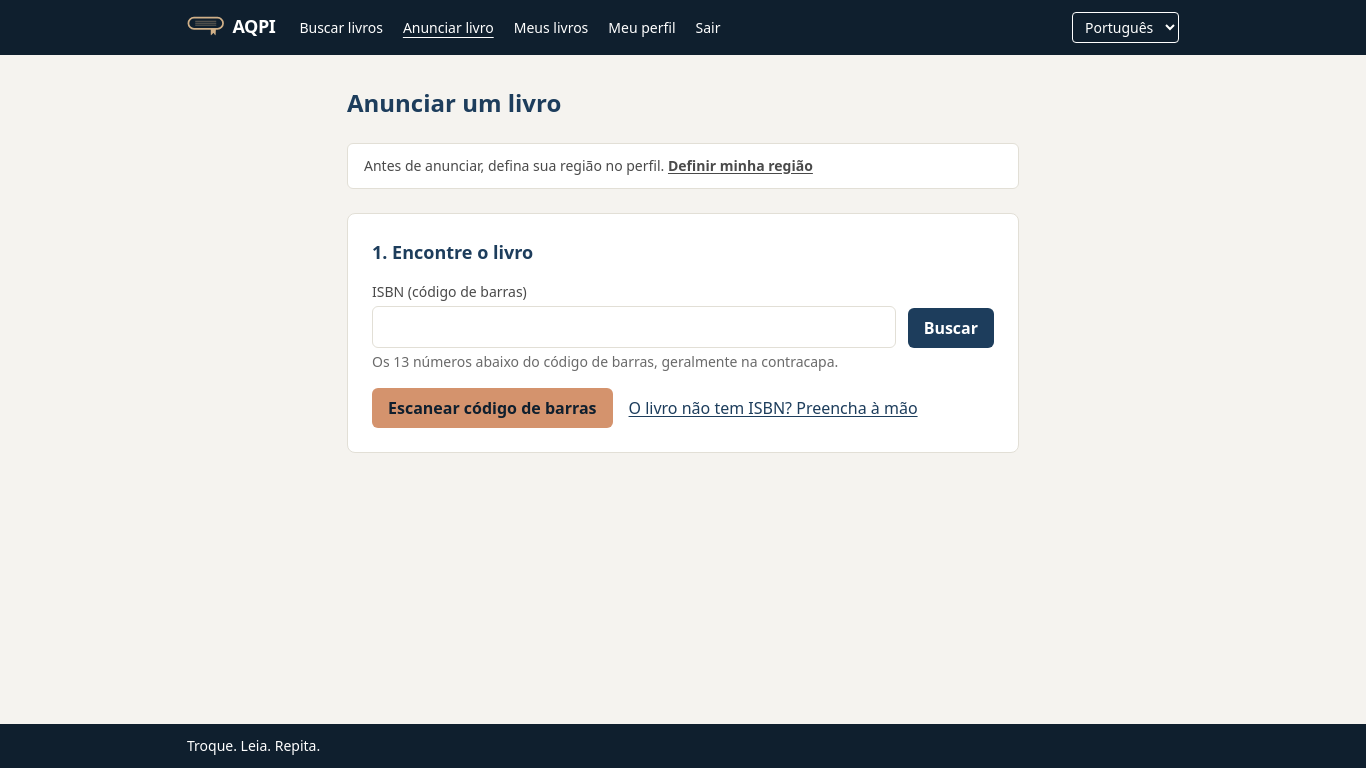
create listing (scan → metadata → publish) › asks for a home area before publishing
Expected: the text "Antes de anunciar, defina sua região no perfil." is shown, [364,156,664,175]
Type "9788535914849" into the field labelled "ISBN (código de barras)" at (634, 327), box [372,306,896,348]
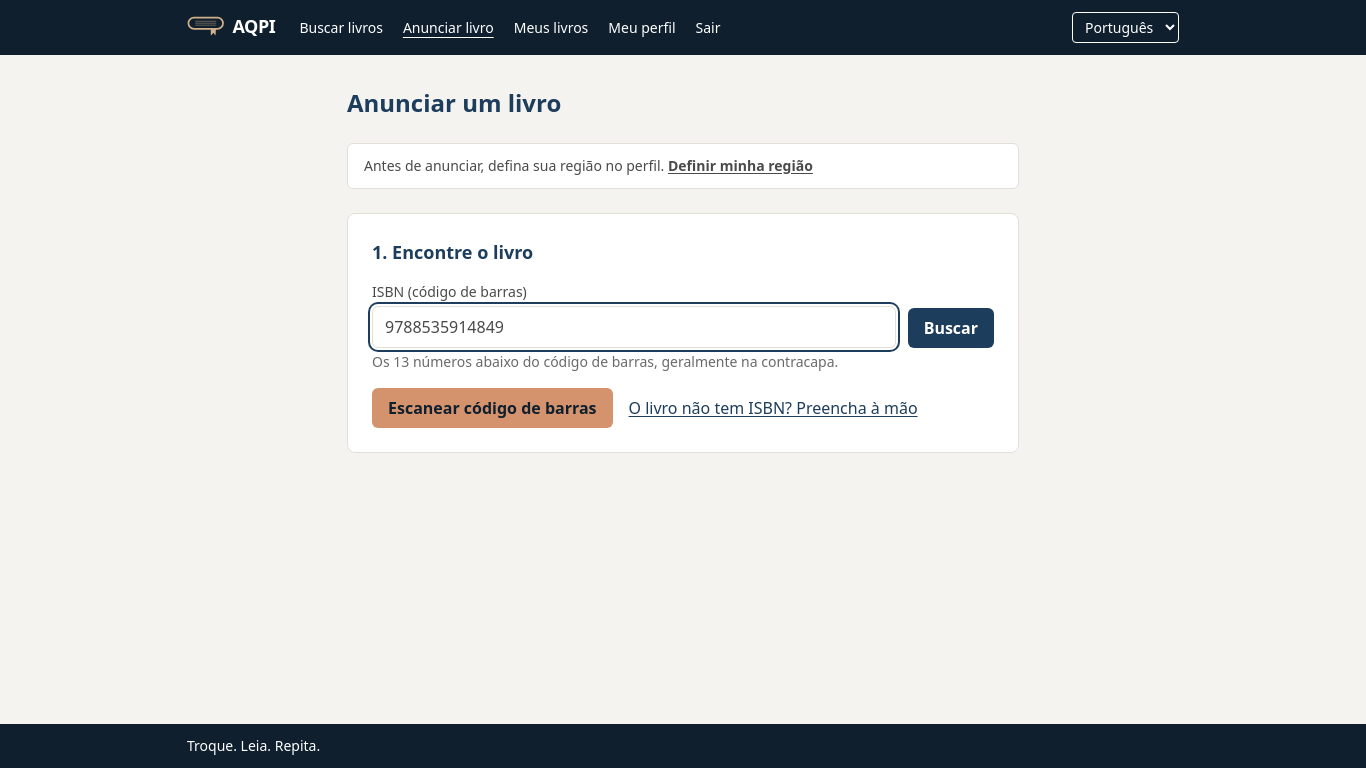
Click the button "Buscar" at (951, 328), box [908,308,994,348]
(page scrolled)
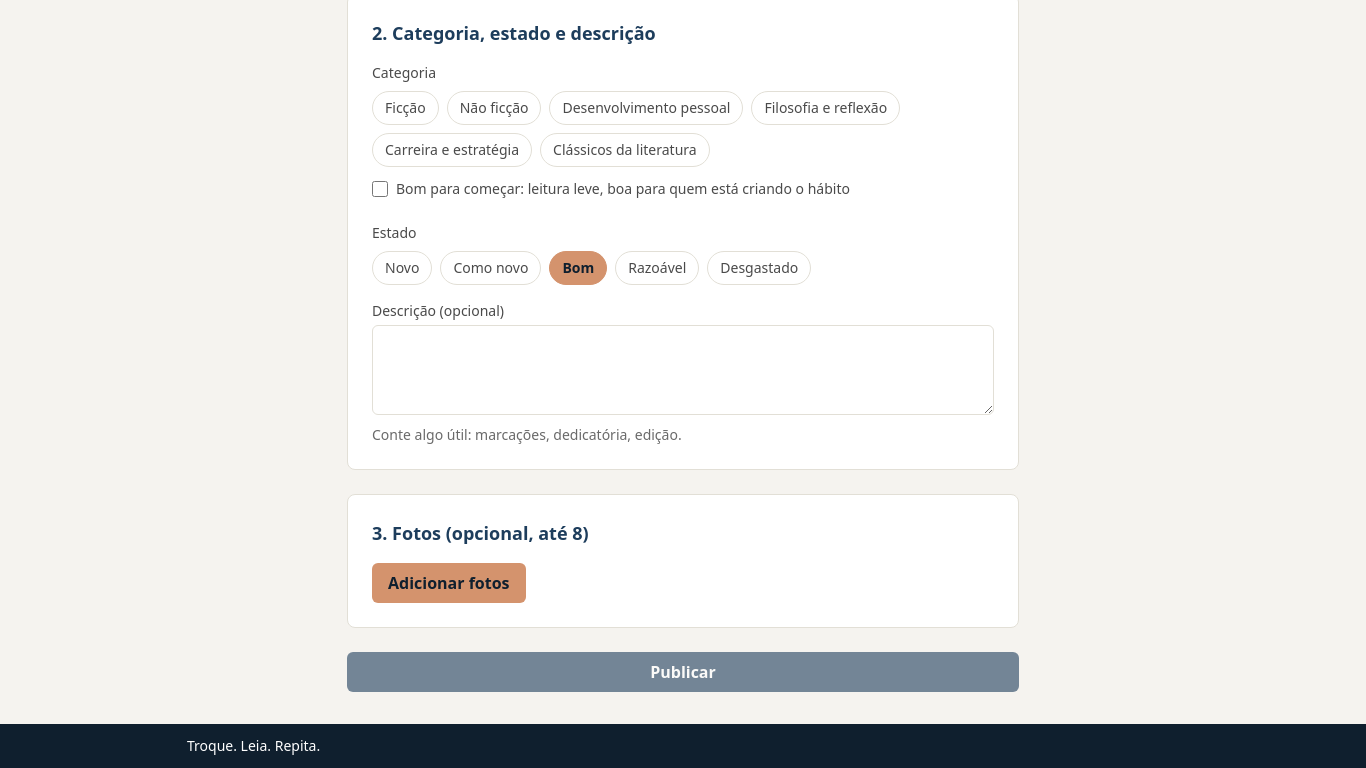
Expected: the button "Publicar" is disabled, [347,652,1019,692]
